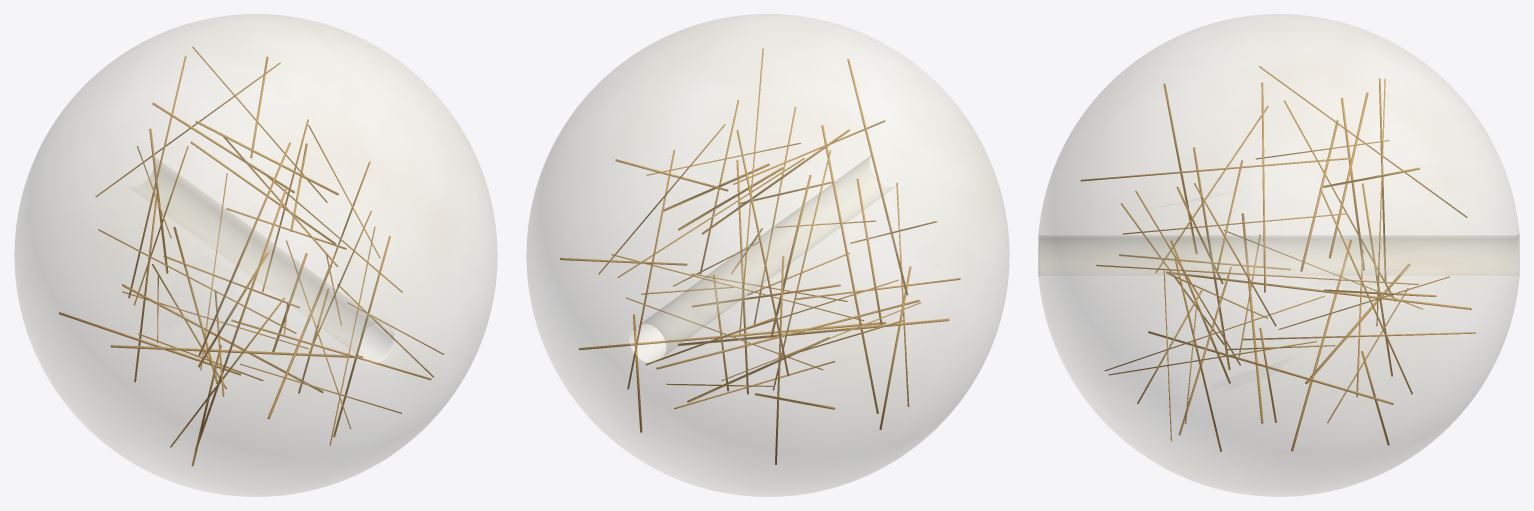
File: golden-rutilated-quartz-12mm.glb
3 renders of one model, left to right at view 1: azimuth 30°, elevation 25°; view 2: azimuth 150°, elevation 25°; view 3: azimuth 270°, elevation 25°, orthographic.
Visible parts, largest first — view 1: golden-rutilated-quartz.001, golden-rutilated-quartz_WEB_needles_48; view 2: golden-rutilated-quartz.001, golden-rutilated-quartz_WEB_needles_48; view 3: golden-rutilated-quartz.001, golden-rutilated-quartz_WEB_needles_48.
Part boxes in pixels (x1,y1,x2,y2): golden-rutilated-quartz.001: [14, 14, 497, 496]; golden-rutilated-quartz_WEB_needles_48: [59, 46, 444, 466]; golden-rutilated-quartz.001: [526, 14, 1009, 496]; golden-rutilated-quartz_WEB_needles_48: [560, 48, 960, 464]; golden-rutilated-quartz.001: [1038, 14, 1519, 496]; golden-rutilated-quartz_WEB_needles_48: [1080, 66, 1475, 451].
Bounding box in the file's own units: 0.012 × 0.012 × 0.012.
3 materials, 1 textured.
